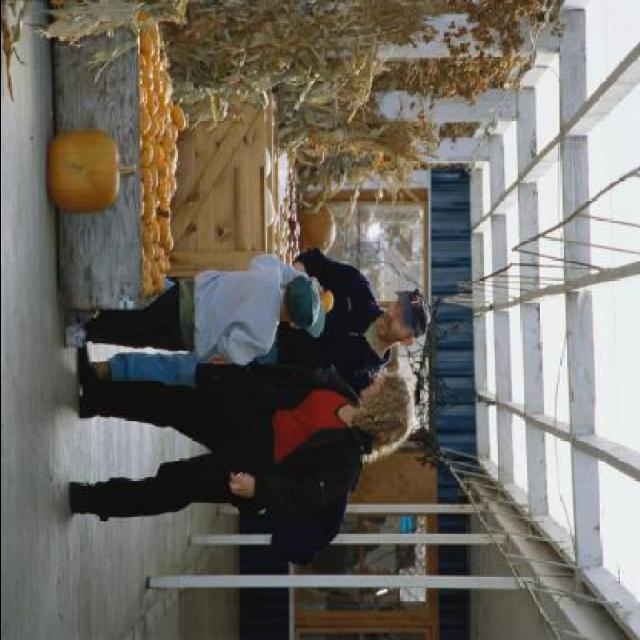Pumpkin: (136, 12, 184, 296), (50, 120, 127, 224), (298, 202, 334, 260), (320, 292, 336, 316)
